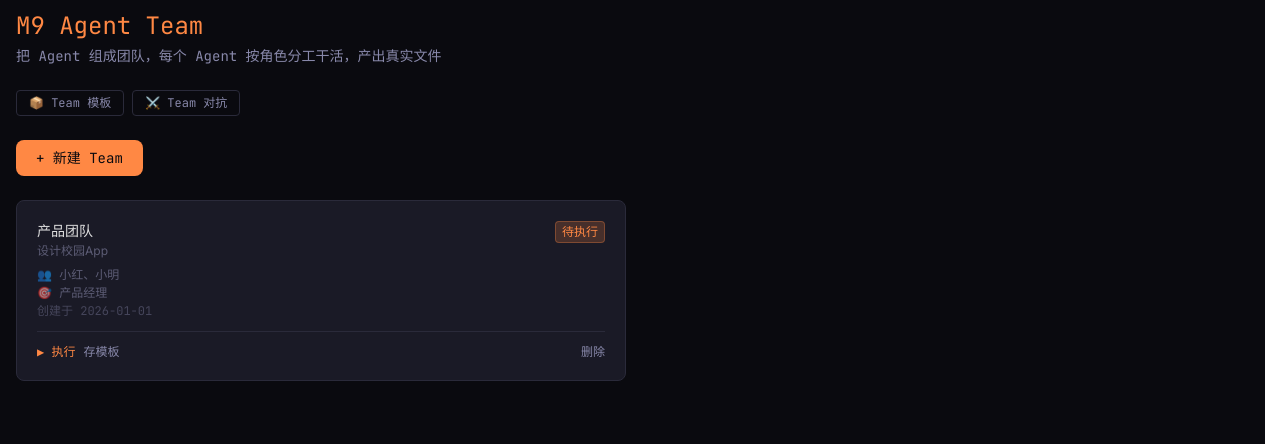
Scenario: TeamDashboard › shows an execute failure instead of failing silently
Click the button "▶ 执行". click: (56, 352)
box: [37,344,75,360]
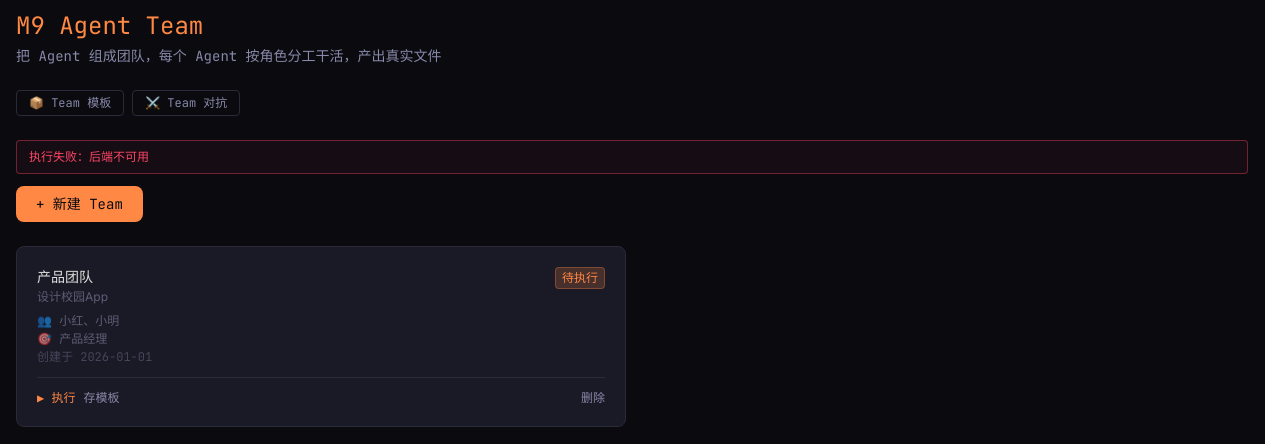
Now the text "执行失败：后端不可用" is shown, box [16,140,1248,174]
